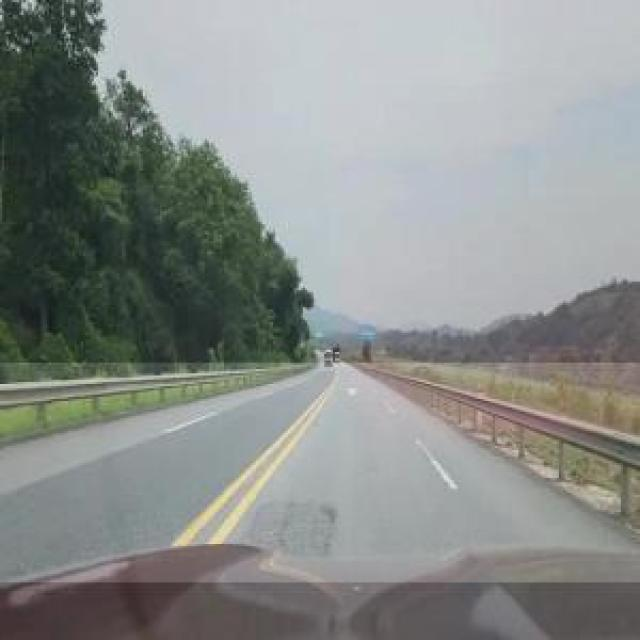clear-road: (0, 363, 640, 582)
